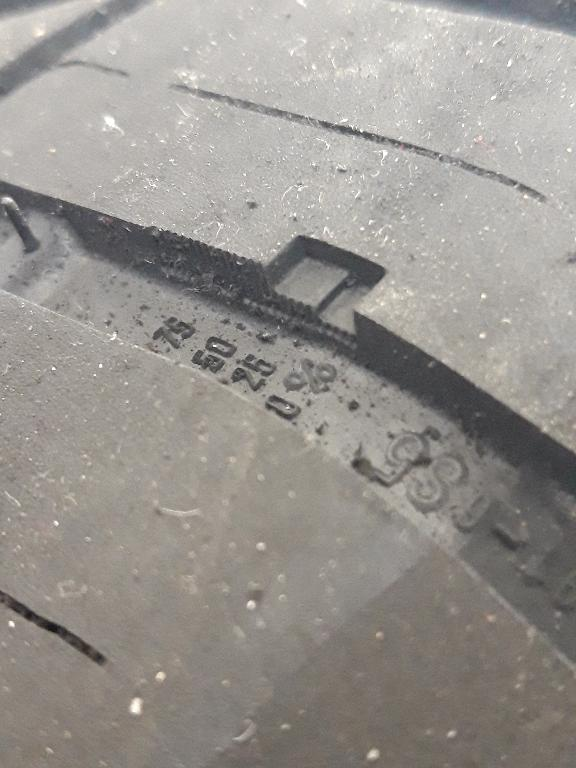temoin:50: (217, 221, 416, 368)
